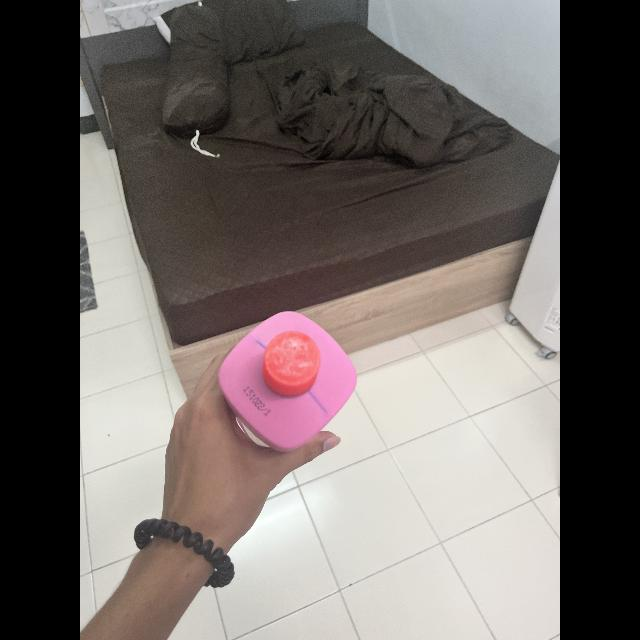chemical_plastic_bottle: (215, 306, 361, 452)
